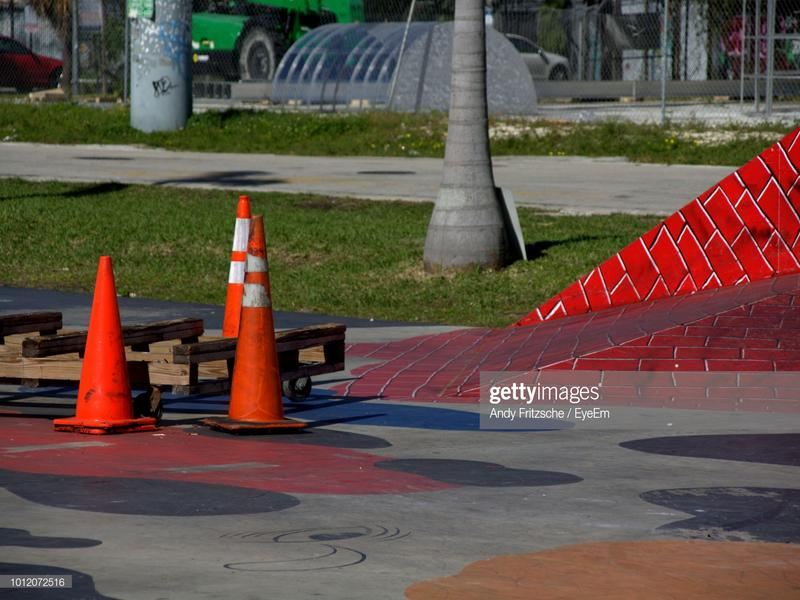Cone: (52, 254, 158, 433)
